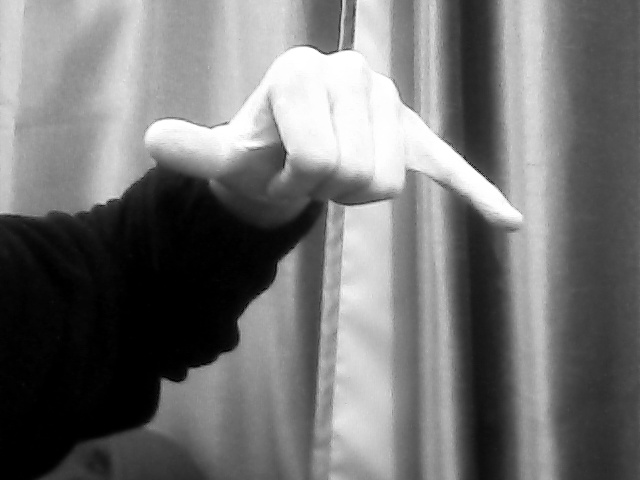aloha: (144, 41, 533, 248)
